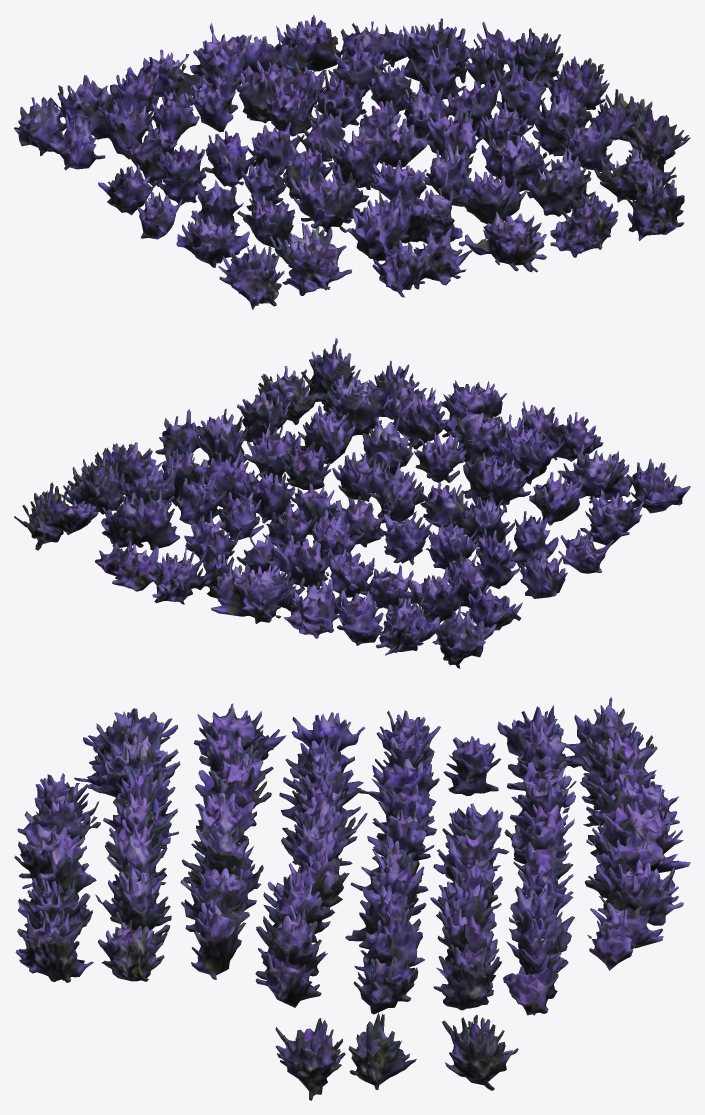
File: nature-flower-lavender-field.glb
The picture shows the model from 3 angles, top to bottom: view 1: azimuth 30°, elevation 25°; view 2: azimuth 150°, elevation 25°; view 3: azimuth 270°, elevation 25°; orthographic projection. The views are drawn at different scales.
Visible parts, largest first — view 1: tripo_node_a2900b0d-be70-4148-949b-2a786ad8a939; view 2: tripo_node_a2900b0d-be70-4148-949b-2a786ad8a939; view 3: tripo_node_a2900b0d-be70-4148-949b-2a786ad8a939.
Part boxes in pixels (box(x1,y1,x2,y2)): tripo_node_a2900b0d-be70-4148-949b-2a786ad8a939: box(14, 14, 690, 309); tripo_node_a2900b0d-be70-4148-949b-2a786ad8a939: box(14, 338, 690, 668); tripo_node_a2900b0d-be70-4148-949b-2a786ad8a939: box(14, 697, 690, 1100).
Bounding box in the file's own units: 3.82 × 0.7998 × 3.57.
1 material, 1 textured.
